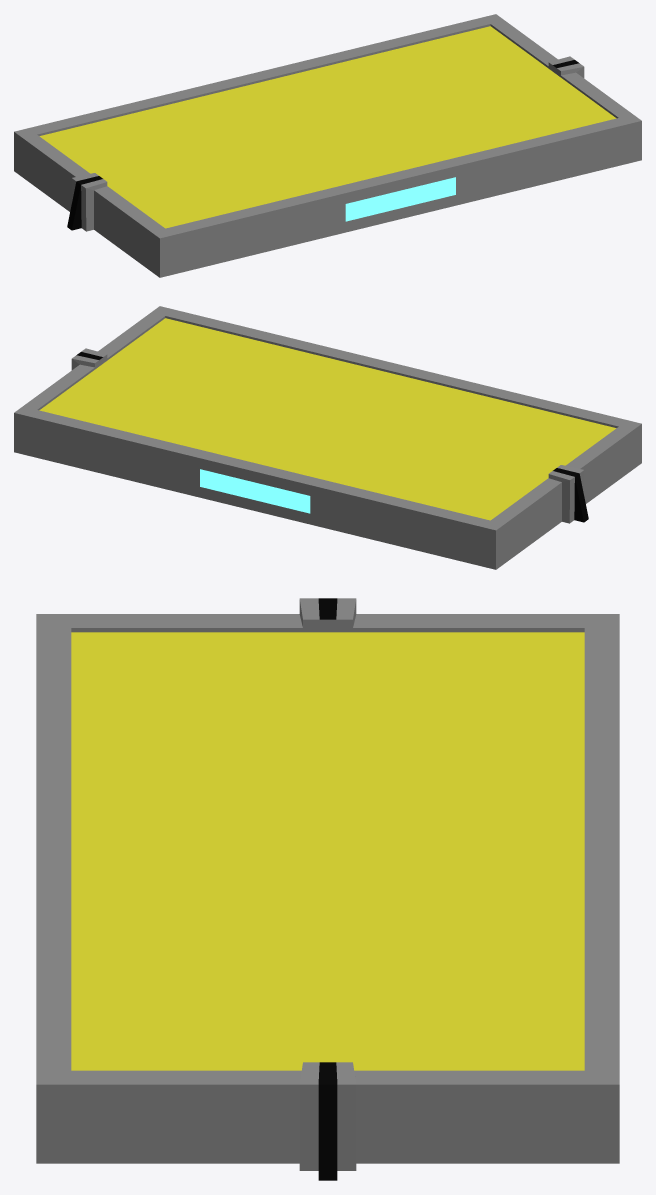
The model's file is new_jumppad.fbx.
3 views of the same model, one above another, from view 1: azimuth 30°, elevation 25°; view 2: azimuth 150°, elevation 25°; view 3: azimuth 270°, elevation 25° (orthographic). The views are drawn at different scales.
Parts seen in each view (by area): view 1: Cube; view 2: Cube; view 3: Cube.
Part boxes in pixels (x1=…): Cube: x1=14, y1=14, x2=641, y2=277; Cube: x1=14, y1=306, x2=641, y2=569; Cube: x1=36, y1=598, x2=619, y2=1180.
Size of the model in its own units: 409 by 33.08 by 200.
